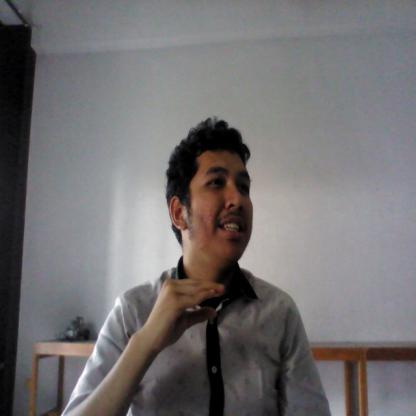Pagi: (140, 264, 235, 354)
